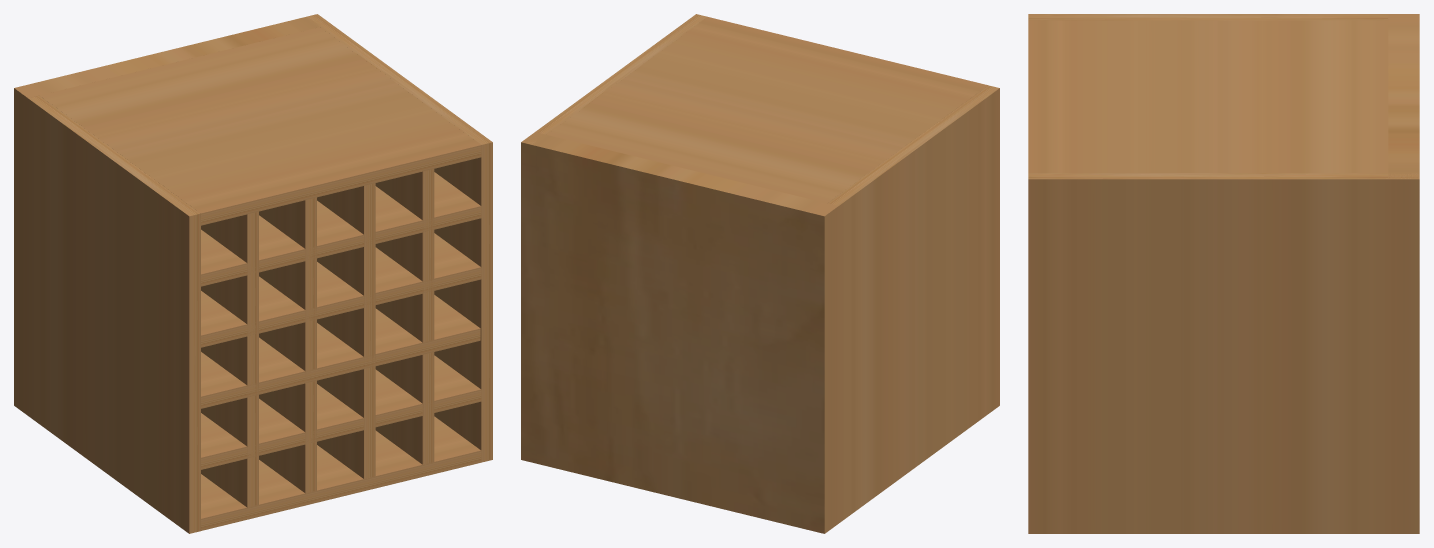
File: sh-contrib-casier-bouteilles.glb
3 renders of one model, left to right at view 1: azimuth 30°, elevation 25°; view 2: azimuth 150°, elevation 25°; view 3: azimuth 270°, elevation 25°, orthographic. The views are drawn at different scales.
Parts seen in each view (by area): view 1: Cube_1; view 2: Cube_1; view 3: Cube_1.
Part boxes in pixels (box(x1,y1,x2,y2)): Cube_1: box(14, 14, 492, 533); Cube_1: box(521, 14, 999, 533); Cube_1: box(1028, 14, 1419, 533).
Bounding box in the file's own units: 1 × 1 × 1.
1 material, 1 textured.
